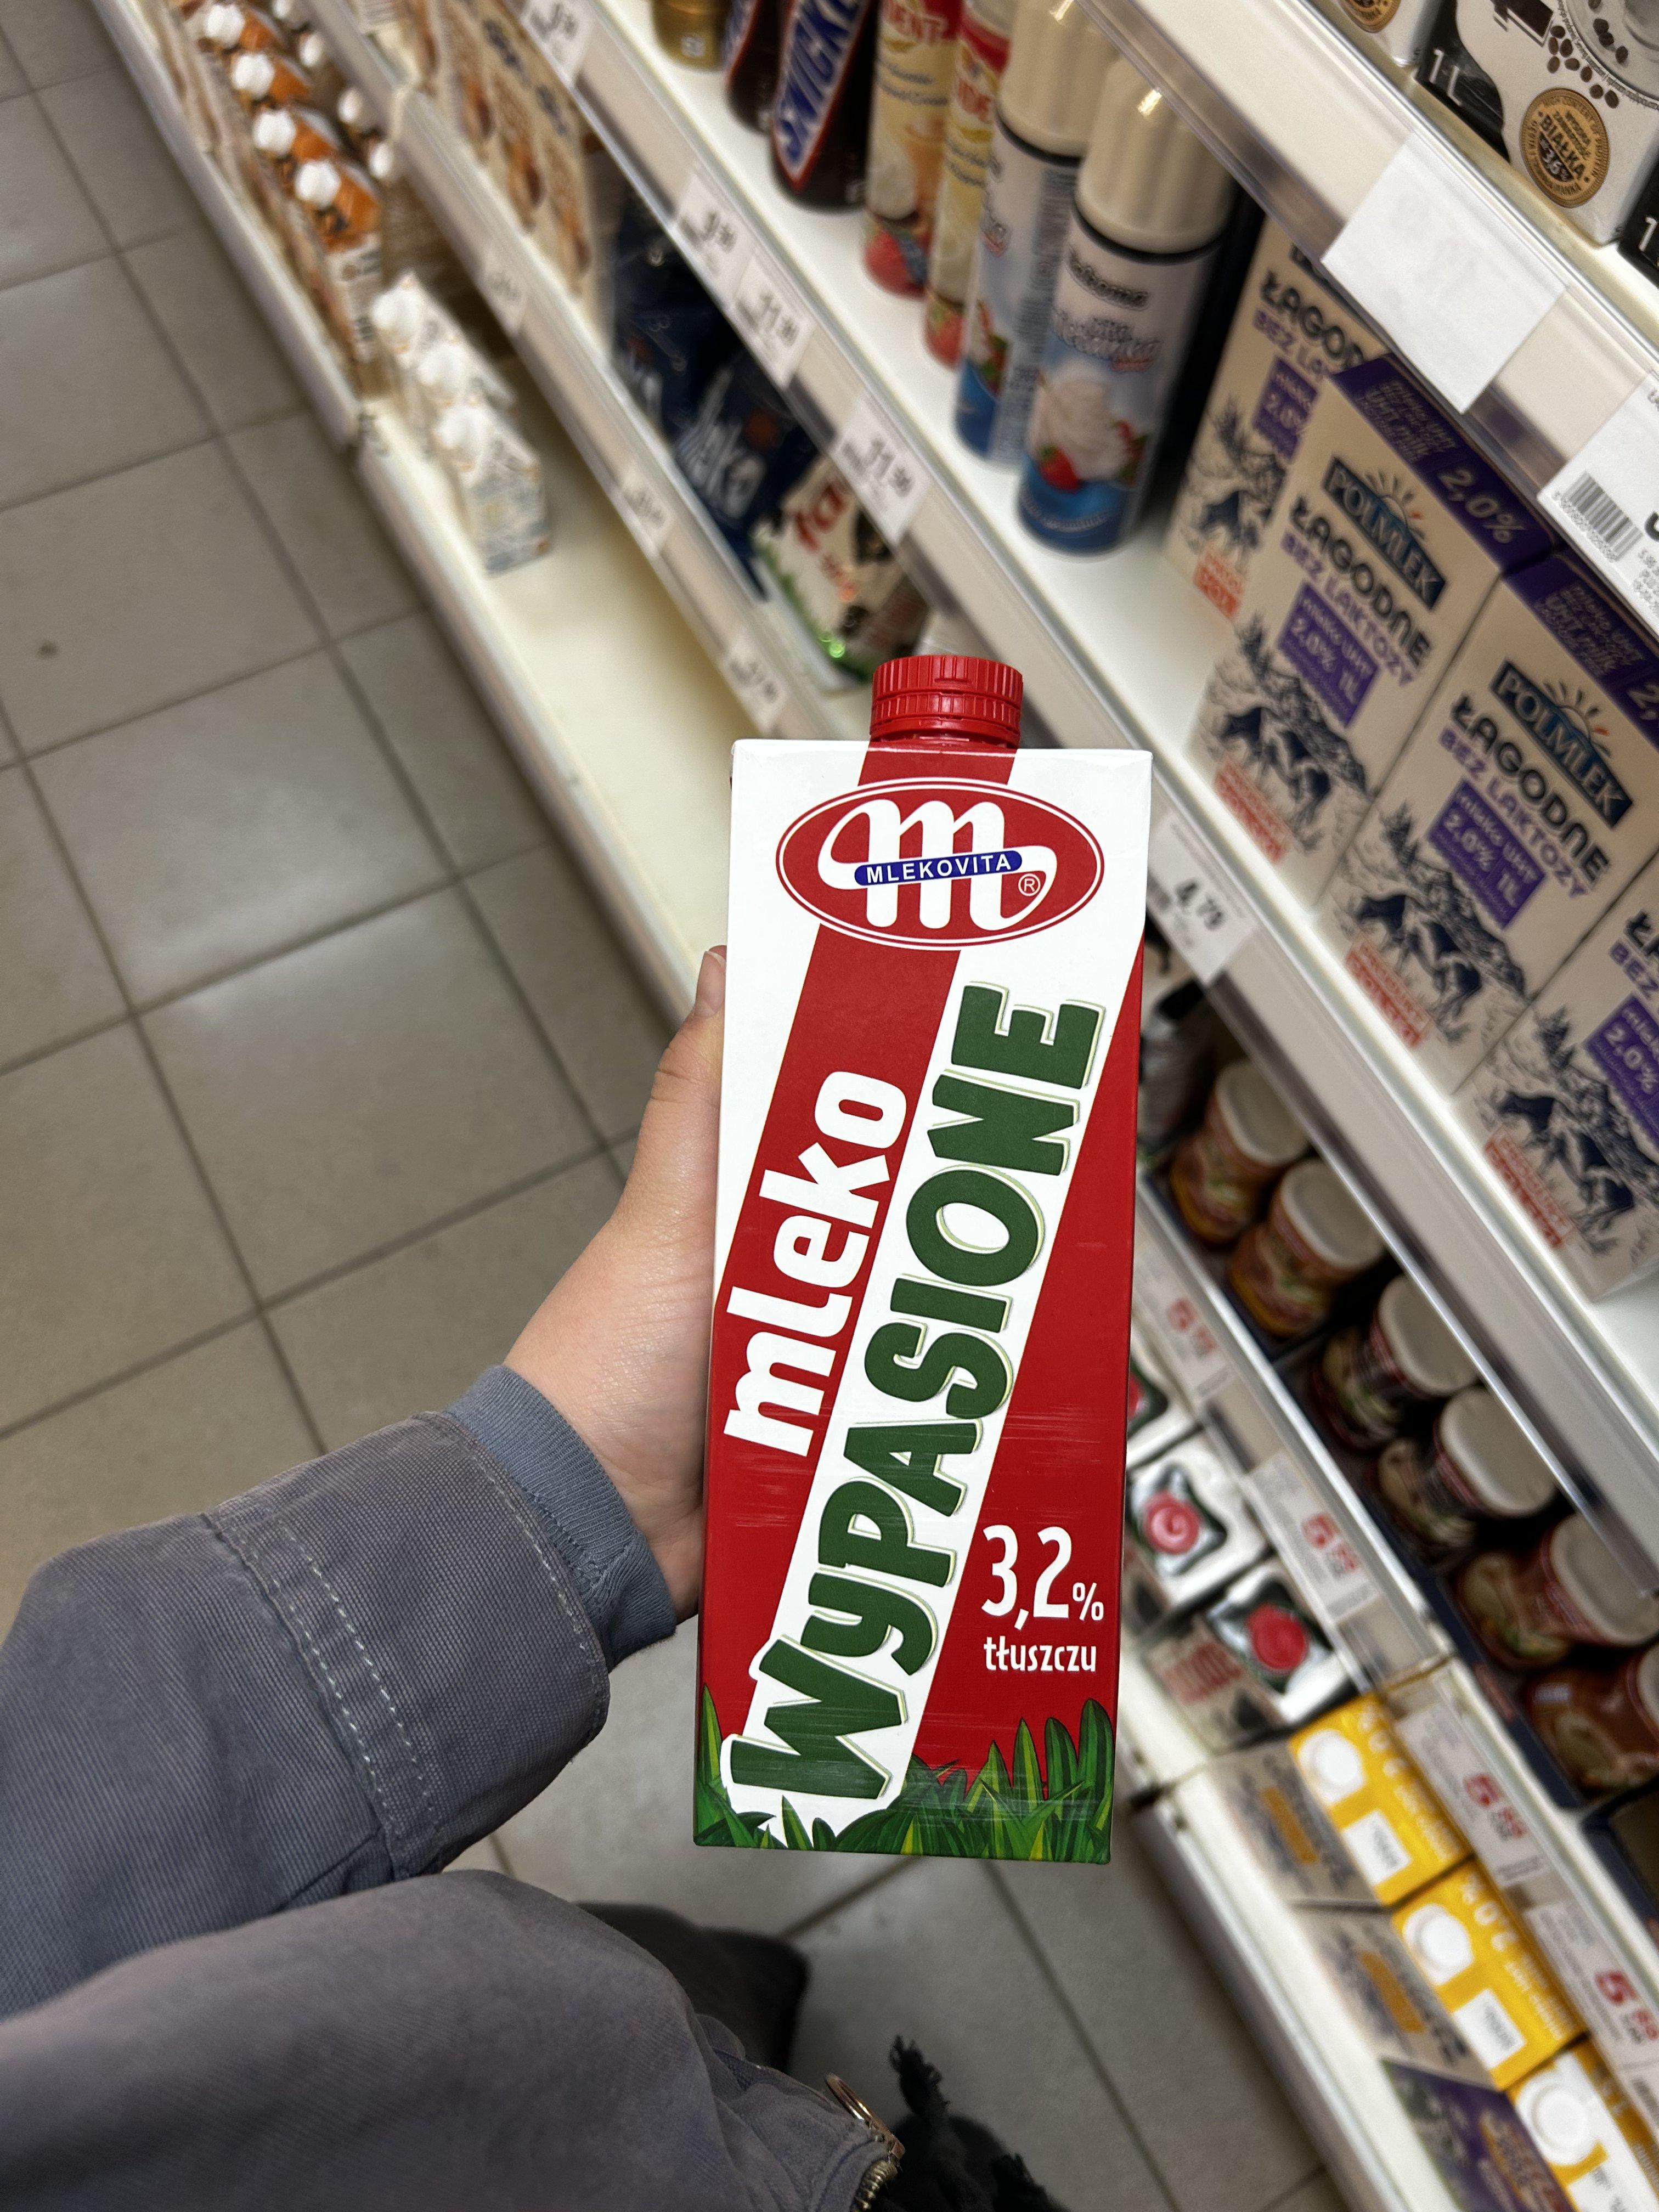Milk: (701, 648, 1119, 1867)
